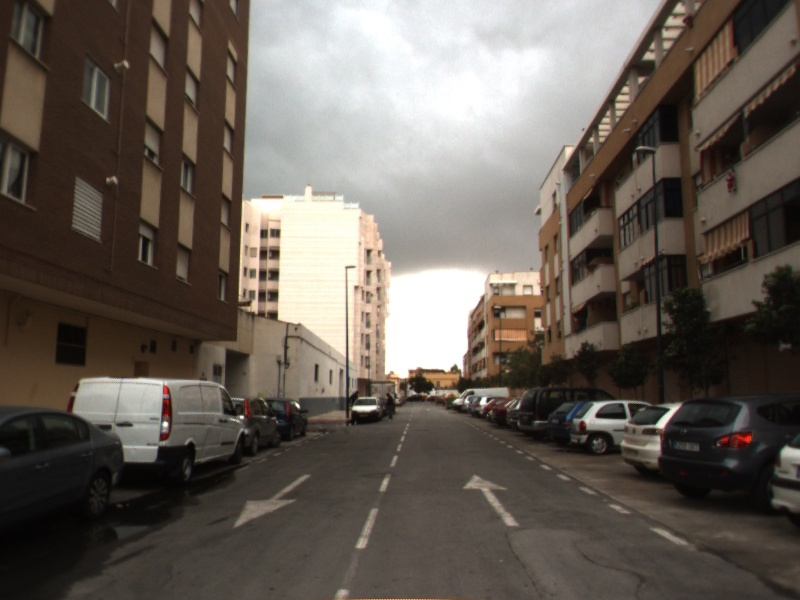STRAIGHT: (460, 472, 522, 528)
